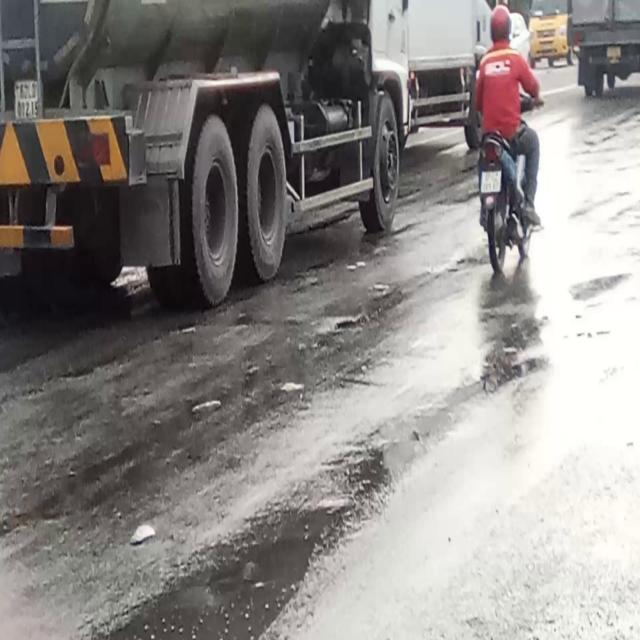bien_trang: (19, 81, 42, 119)
